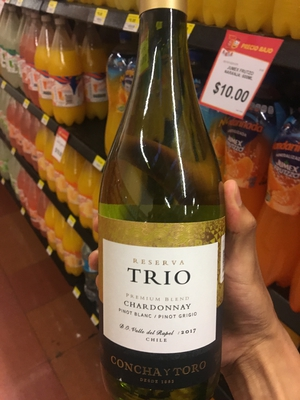trio chardonnay: (80, 18, 243, 395)
